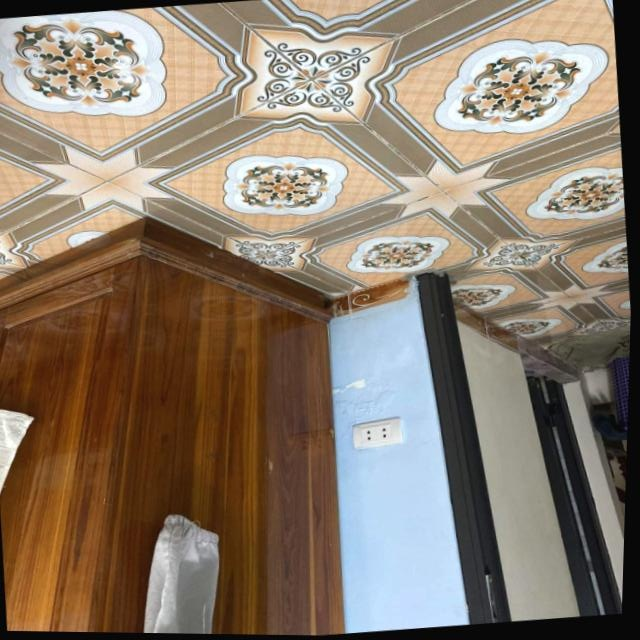outlet: (352, 415, 405, 450)
